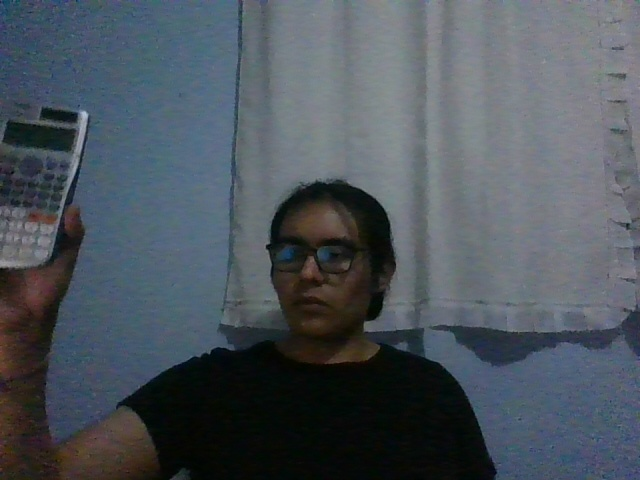calculadora: (1, 102, 91, 271)
